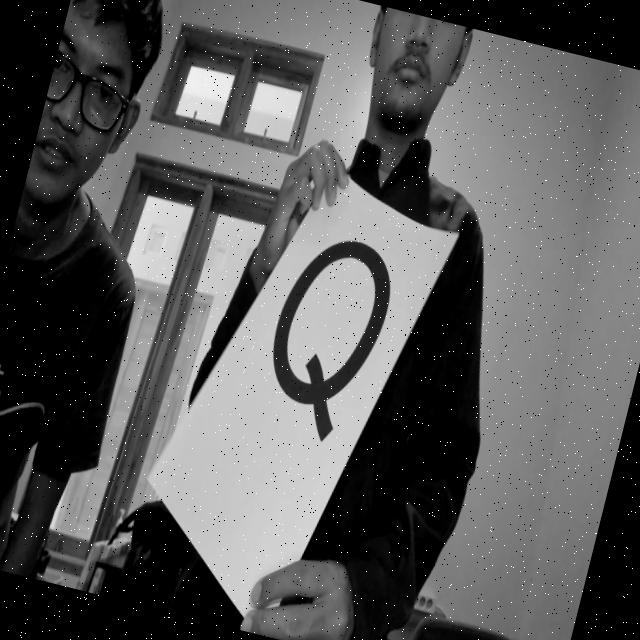q: (232, 208, 415, 486)
